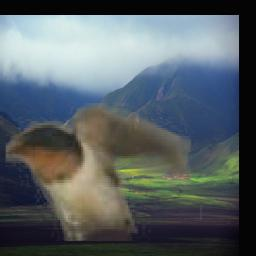Swallow: (7, 103, 192, 241)
